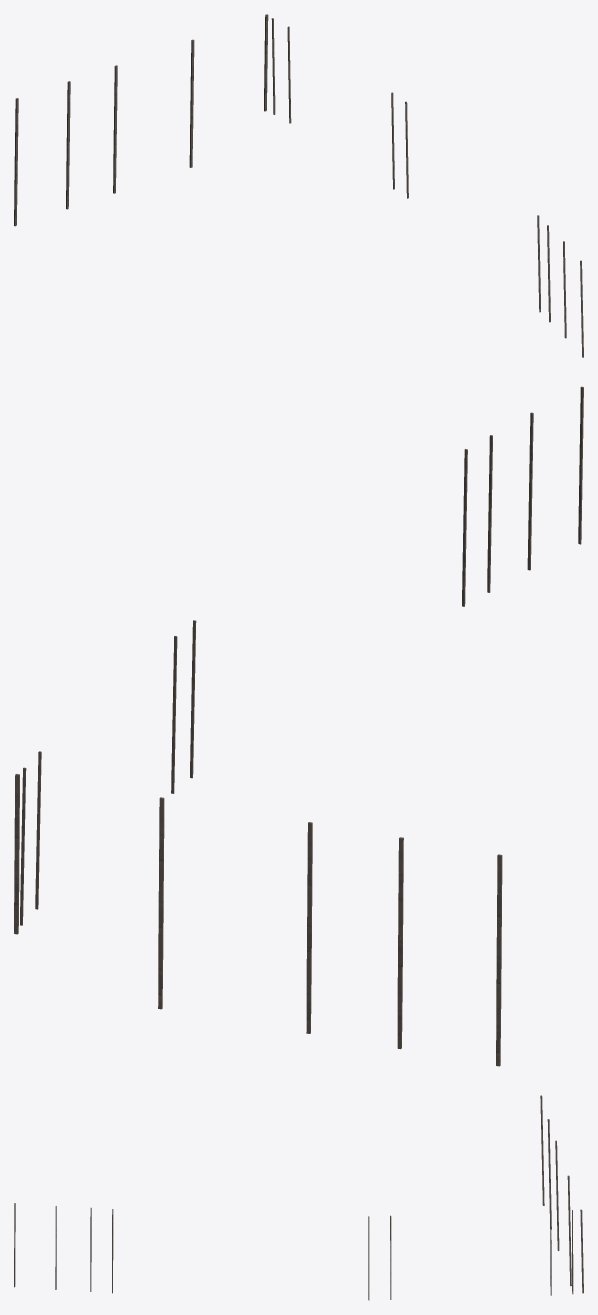
Rendered from SM_Corridor_04_metal.fbx.
3 views of the same model, one above another, from view 1: azimuth 30°, elevation 25°; view 2: azimuth 150°, elevation 25°; view 3: azimuth 270°, elevation 25° (orthographic). The views are drawn at different scales.
Parts seen in each view (by area): view 1: SM_Corridor_04_metal; view 2: SM_Corridor_04_metal; view 3: SM_Corridor_04_metal.
Boxes of the visible parts, <box> form: SM_Corridor_04_metal: <box>14,14,583,357</box>; SM_Corridor_04_metal: <box>14,386,583,1066</box>; SM_Corridor_04_metal: <box>14,1095,583,1300</box>.
Size of the model in its own units: 3015 by 1264 by 5944.
